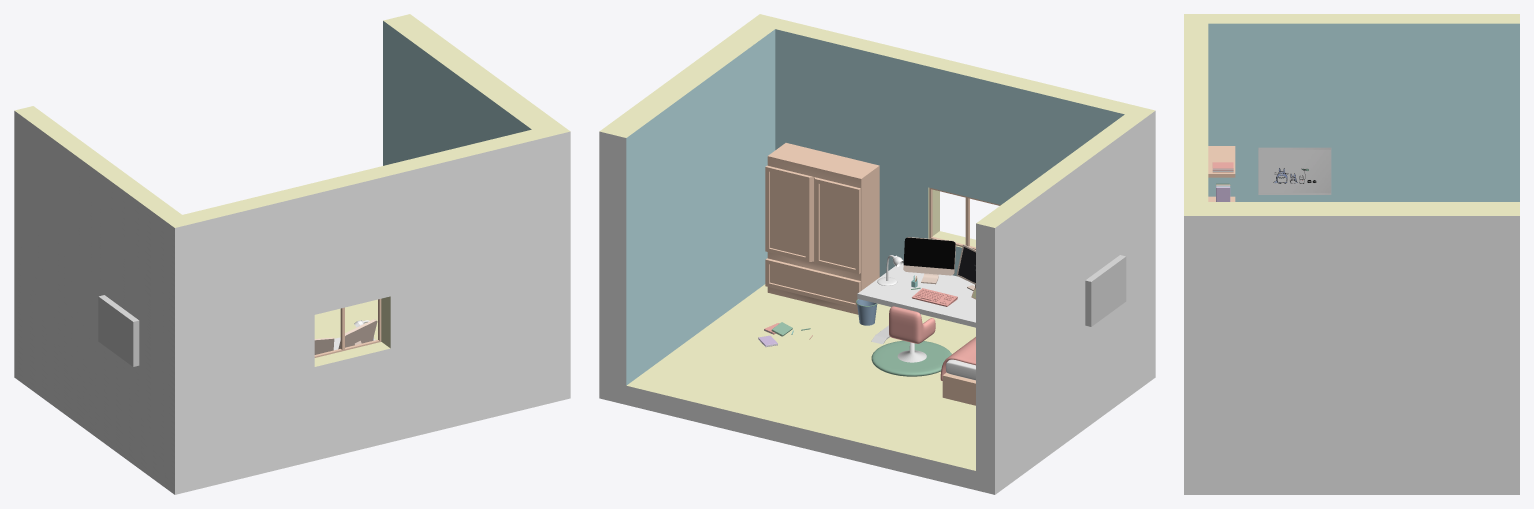
File: Study_Room_29.glb
3 views of the same model, side by side, from view 1: azimuth 30°, elevation 25°; view 2: azimuth 150°, elevation 25°; view 3: azimuth 270°, elevation 25° (orthographic). The views are drawn at different scales.
Visible parts, largest first — view 1: Room, Poster, Window Frame; view 2: Room, Closet, Table Top, Poster, Rug, Desktop Screen, Chair, Bedframe, Window Frame; view 3: Room, Poster.001, Shelf.001.
Boxes of the visible parts, <box> form: Room: <box>14,14,570,494</box>; Poster: <box>98,295,139,366</box>; Window Frame: <box>314,299,381,357</box>; Room: <box>599,14,1155,494</box>; Closet: <box>765,143,879,314</box>; Table Top: <box>857,263,975,327</box>; Poster: <box>1085,255,1126,326</box>; Rug: <box>871,340,951,376</box>; Desktop Screen: <box>903,237,955,269</box>; Chair: <box>889,306,935,343</box>; Bedframe: <box>942,372,975,405</box>; Window Frame: <box>929,187,1000,249</box>; Room: <box>1184,14,1519,494</box>; Poster.001: <box>1258,147,1331,194</box>; Shelf.001: <box>1208,146,1235,177</box>.
Bounding box in the file's own units: 28.14 × 17.86 × 19.48.
29 materials, 4 textured.
